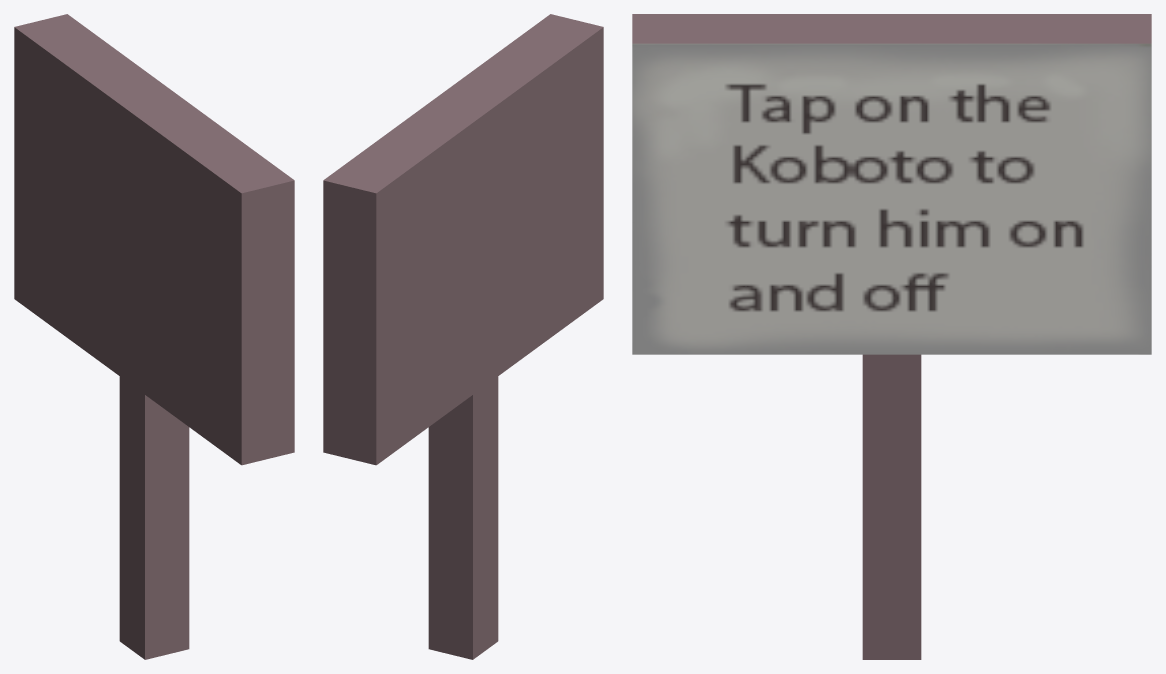
The model's file is tutorialSign1_fbx.fbx.
The picture shows the model from 3 angles, left to right: view 1: azimuth 30°, elevation 25°; view 2: azimuth 150°, elevation 25°; view 3: azimuth 270°, elevation 25°; orthographic projection. The views are drawn at different scales.
Visible parts, largest first — view 1: pCube1, pCube2; view 2: pCube1, pCube2; view 3: pCube1, pCube2.
Part boxes in pixels (x1,y1,x2,y2): pCube1: [14, 14, 294, 465]; pCube2: [119, 376, 189, 659]; pCube1: [323, 14, 603, 465]; pCube2: [428, 376, 498, 659]; pCube1: [632, 14, 1151, 354]; pCube2: [862, 354, 921, 659].
Size of the model in its own units: 1.2 by 11.67 by 8.88.
